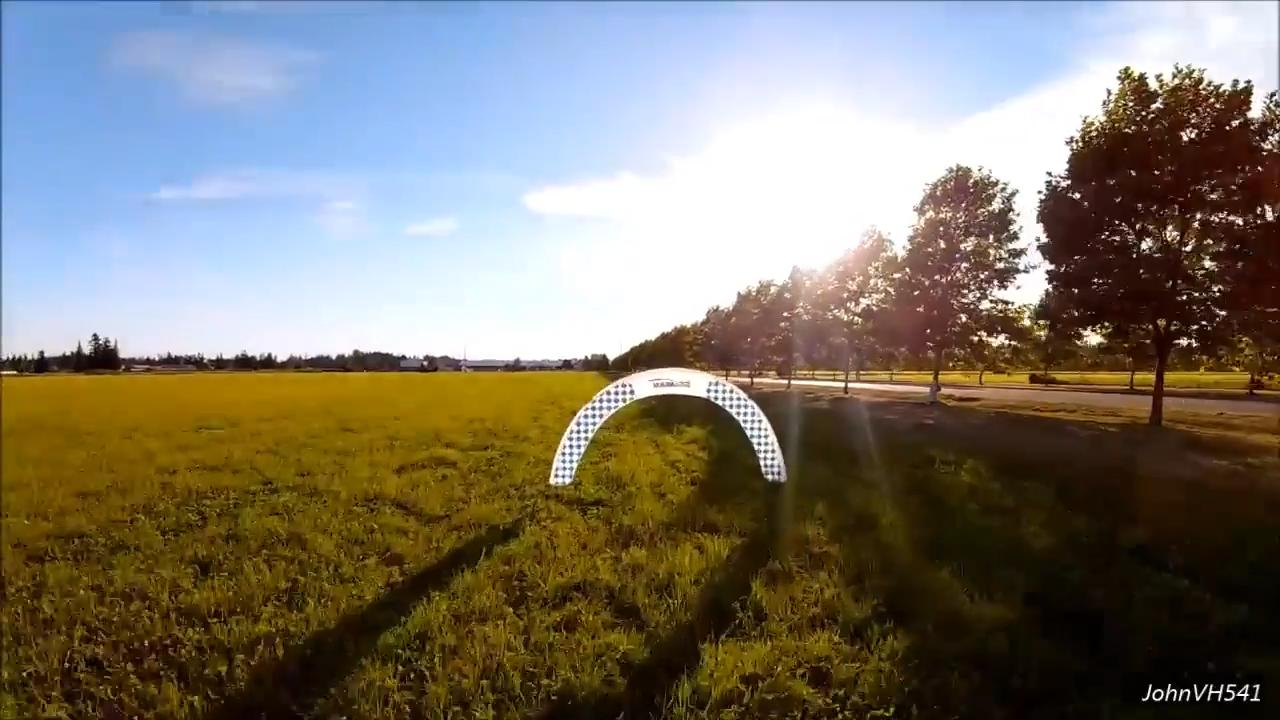gate: (543, 367, 787, 486)
